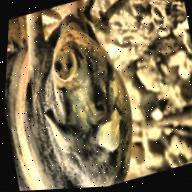boar: (0, 0, 153, 192)
